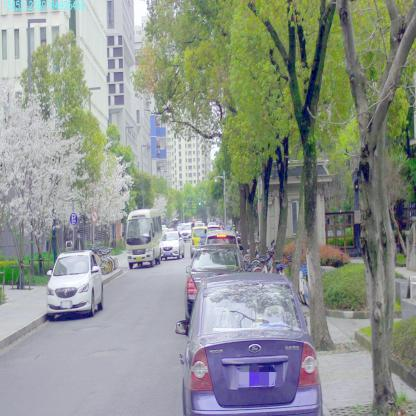traffic-light: (198, 202, 201, 205)
